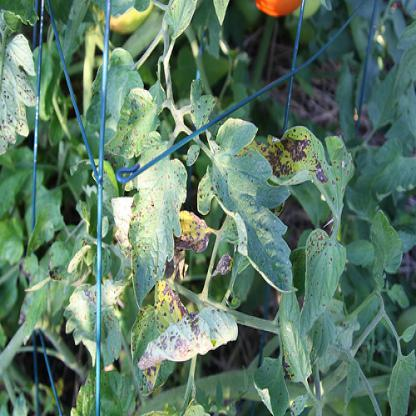tomato septoria leaf spot: (191, 119, 302, 295), (124, 132, 191, 311), (261, 114, 357, 214), (129, 270, 188, 397), (66, 254, 125, 380), (143, 299, 239, 374), (299, 225, 345, 344), (106, 85, 165, 165), (184, 72, 218, 131)
